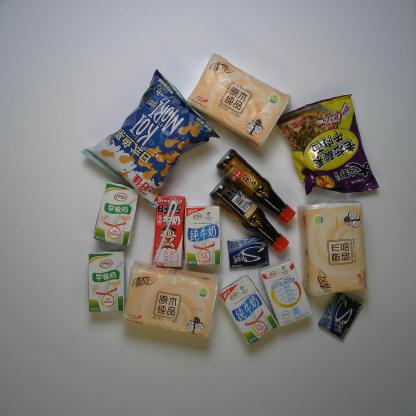Gum: (316, 291, 364, 343), (224, 236, 272, 270)
Instant Noodles: (275, 92, 381, 198)
Milk: (218, 274, 280, 346), (257, 256, 315, 329), (90, 179, 139, 248), (84, 248, 128, 315), (149, 193, 186, 270), (183, 203, 225, 268)
Puffed Food: (77, 65, 223, 212)
Seasoner: (214, 145, 297, 226), (207, 176, 290, 257)
Tissue: (186, 50, 294, 150), (121, 258, 221, 341), (295, 197, 370, 300)
